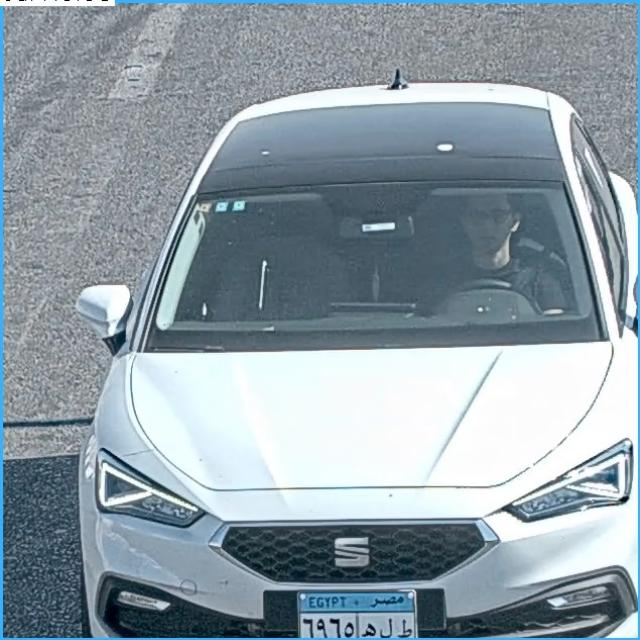windshield: (126, 180, 594, 338)
